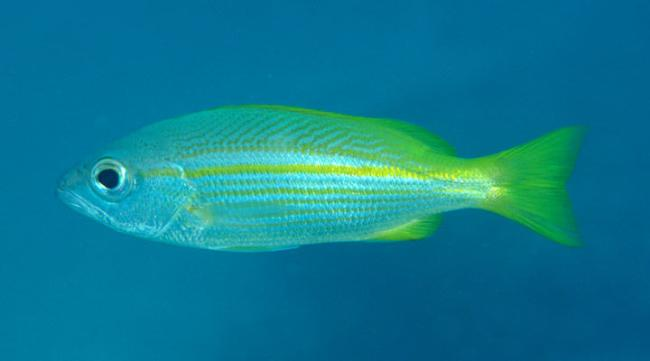fish: (54, 102, 589, 252)
